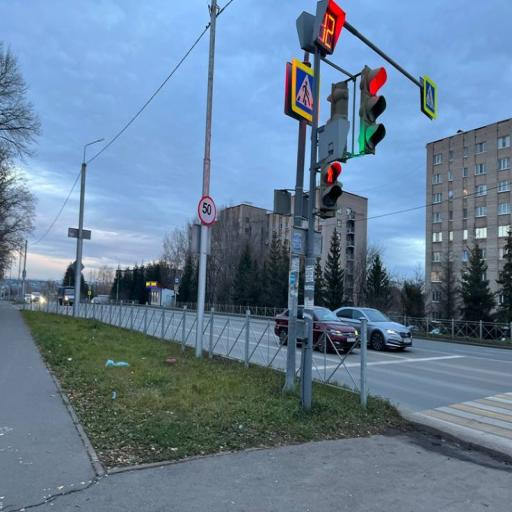chair: (413, 392, 512, 453)
glass_wall: (22, 298, 512, 454), (0, 301, 95, 510)
pole: (358, 66, 387, 154), (319, 161, 342, 218)
